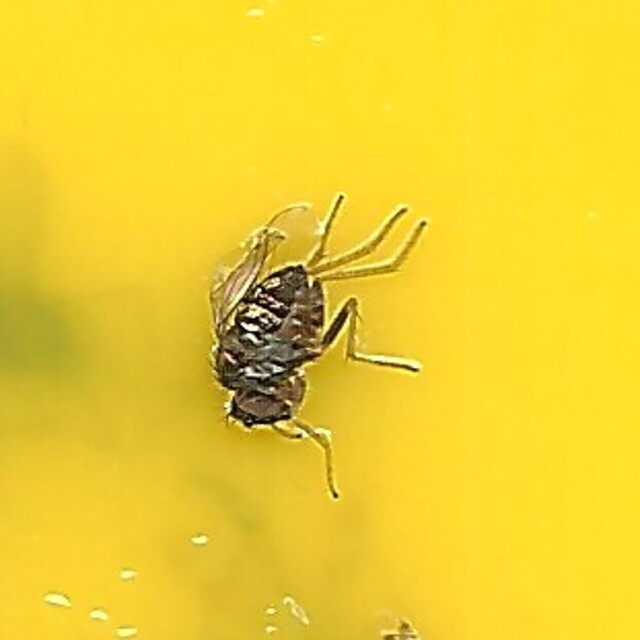Brachycera: (206, 186, 434, 454)
